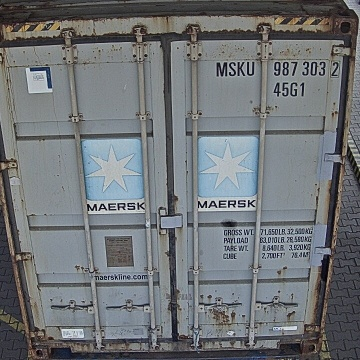serial_id: (216, 61, 340, 76)
